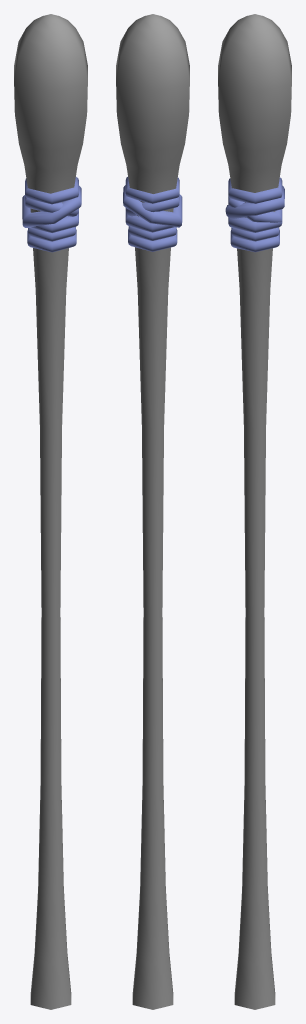
The model's file is pile torch.fbx.
3 views of the same model, side by side, from view 1: azimuth 30°, elevation 25°; view 2: azimuth 150°, elevation 25°; view 3: azimuth 330°, elevation 25° (orthographic).
Parts seen in each view (by area): view 1: Line099, Shape009, Shape011, Shape013, Shape010, Shape012, Shape008; view 2: Line099, Shape009, Shape011, Shape013, Shape010, Shape012, Shape008; view 3: Line099, Shape009, Shape011, Shape013, Shape010, Shape008, Shape012.
Boxes of the visible parts, bbox=[...] form: Line099: bbox=[14, 14, 87, 1009]; Shape009: bbox=[22, 185, 81, 227]; Shape011: bbox=[25, 177, 78, 204]; Shape013: bbox=[27, 229, 76, 252]; Shape010: bbox=[30, 212, 78, 232]; Shape012: bbox=[28, 227, 75, 241]; Shape008: bbox=[25, 196, 78, 216]; Line099: bbox=[116, 14, 189, 1009]; Shape009: bbox=[123, 185, 182, 227]; Shape011: bbox=[125, 177, 179, 203]; Shape013: bbox=[128, 229, 177, 251]; Shape010: bbox=[125, 210, 174, 232]; Shape012: bbox=[128, 226, 176, 240]; Shape008: bbox=[125, 195, 179, 216]; Line099: bbox=[218, 14, 291, 1009]; Shape009: bbox=[225, 185, 284, 218]; Shape011: bbox=[228, 177, 282, 203]; Shape013: bbox=[230, 229, 279, 252]; Shape010: bbox=[228, 217, 282, 232]; Shape008: bbox=[228, 196, 282, 222]; Shape012: bbox=[231, 227, 279, 241].
Size of the model in its own units: 18.52 by 16.04 by 236.
